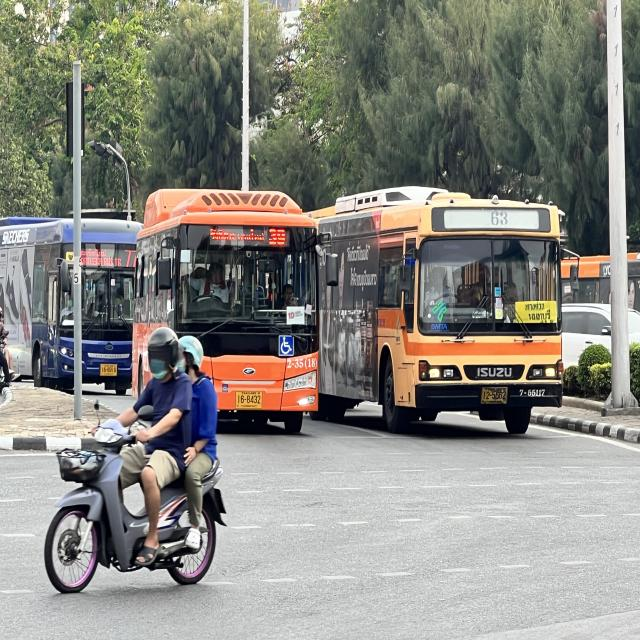BMTA-bus: (315, 187, 567, 438)
Bus-Line-Number: (486, 206, 512, 228), (268, 227, 287, 247), (123, 248, 138, 270)
Destination-Sign-Normal: (209, 227, 266, 247), (80, 245, 124, 269)
Destination-Sign-Normal-Expressway: (515, 301, 557, 324)
TSB-Bus: (135, 190, 320, 433), (0, 210, 139, 394)
